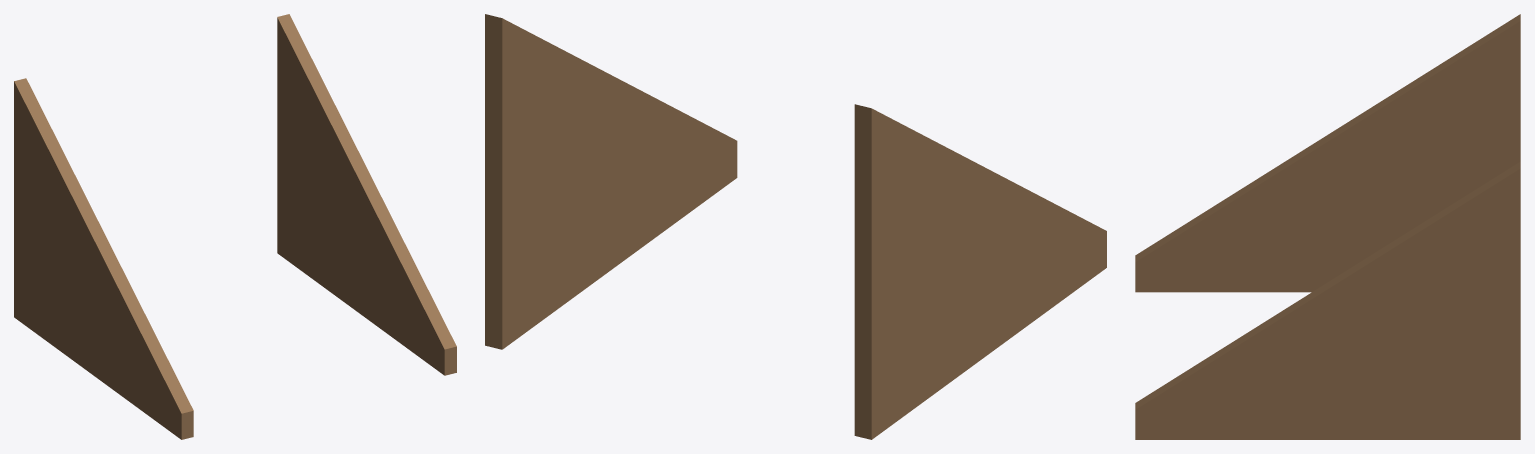
Rendered from stand_classic.glb.
3 renders of one model, left to right at view 1: azimuth 30°, elevation 25°; view 2: azimuth 150°, elevation 25°; view 3: azimuth 270°, elevation 25°, orthographic. The views are drawn at different scales.
Visible parts, largest first — view 1: stand_classic; view 2: stand_classic; view 3: stand_classic.
Boxes of the visible parts, x1,y1,x2,y2 form: stand_classic: (14,14,456,439); stand_classic: (485,14,1106,439); stand_classic: (1135,14,1520,439).
Size of the model in its own units: 0.45 by 0.3689 by 0.4741.
